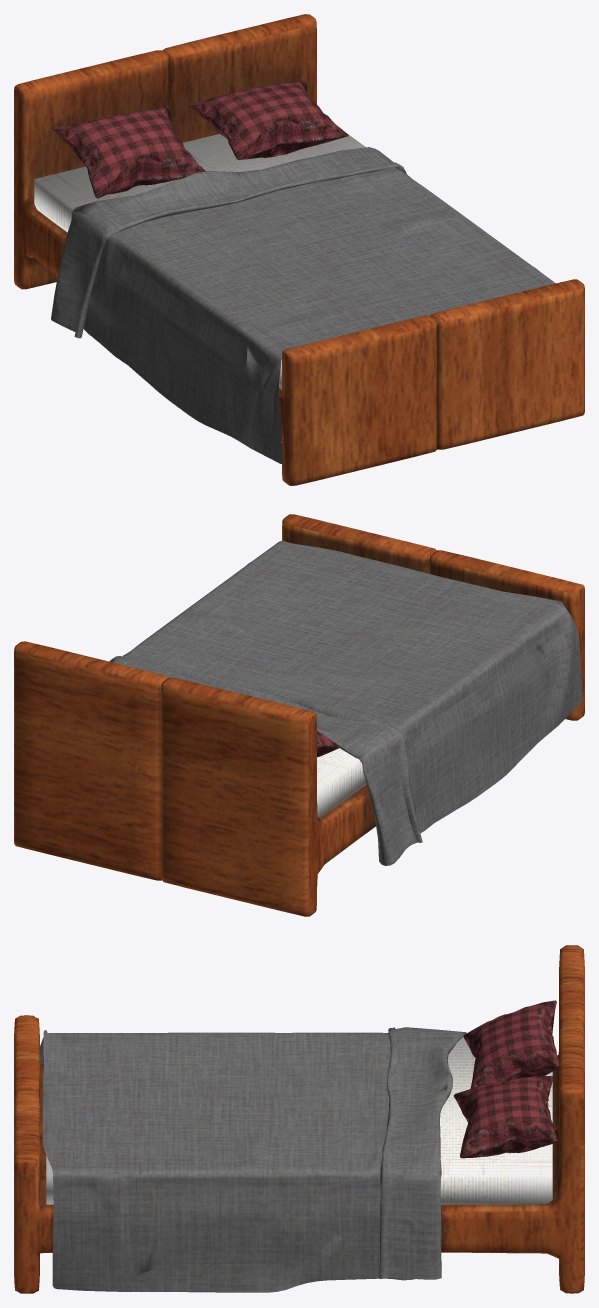
Rendered from bed.glb.
3 renders of one model, top to bottom at view 1: azimuth 30°, elevation 25°; view 2: azimuth 150°, elevation 25°; view 3: azimuth 270°, elevation 25°, orthographic.
Visible parts, largest first — view 1: Bed; view 2: Bed; view 3: Bed.
Boxes of the visible parts, x1=… form: Bed: x1=14, y1=14, x2=584, y2=485; Bed: x1=14, y1=514, x2=584, y2=916; Bed: x1=14, y1=945, x2=584, y2=1293.
Size of the model in its own units: 4.6 by 2.6 by 6.6.
5 materials, 5 textured.
